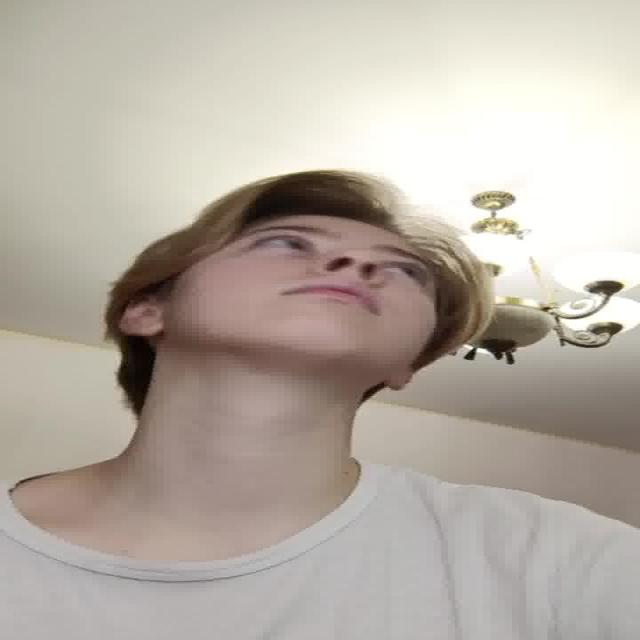earlobe: (120, 297, 166, 336)
